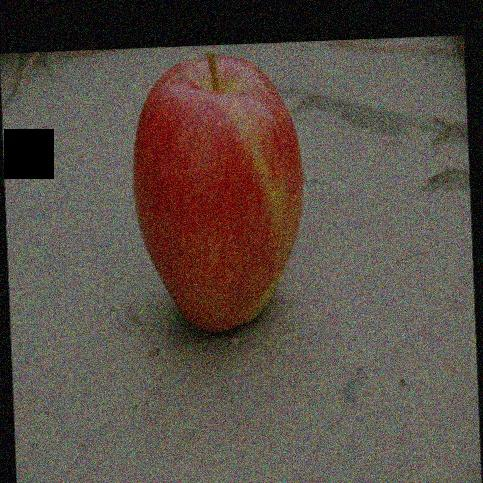red apple: (132, 52, 304, 331)
